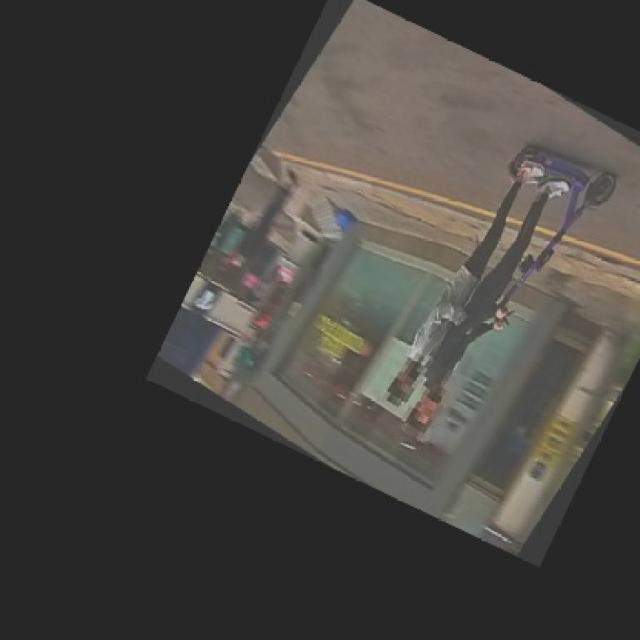bare_head: (403, 393, 439, 439), (381, 371, 417, 408)
human: (408, 171, 564, 431), (383, 155, 534, 402)
kickboard: (508, 140, 622, 208)
